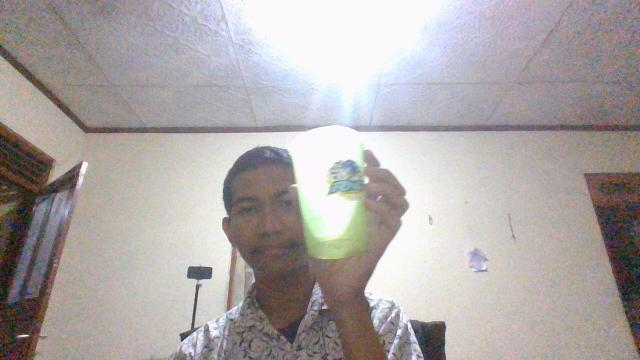botol-hijau: (287, 124, 373, 260)
